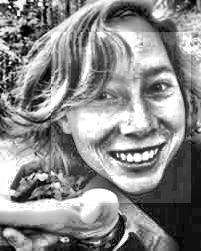happy: (52, 33, 192, 204)
